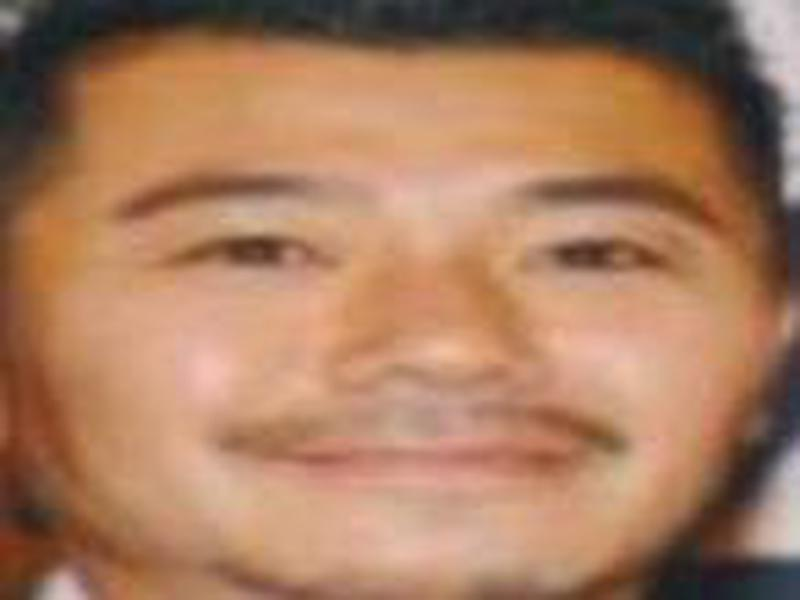without_mask: (23, 74, 755, 600)
